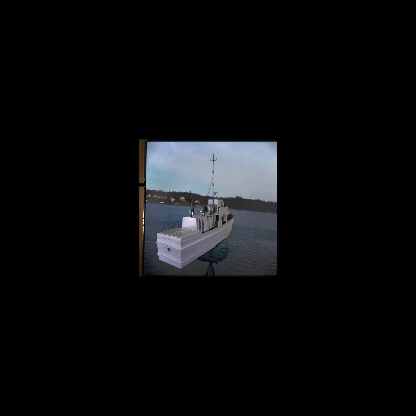YP689: (156, 155, 234, 269)
